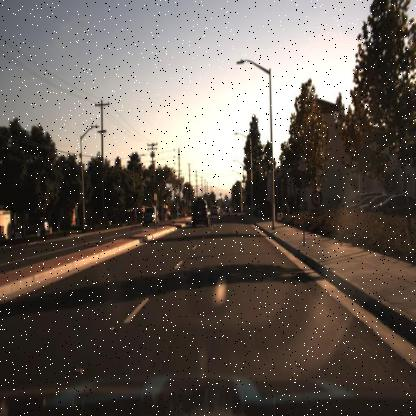car: (373, 193, 414, 217), (356, 192, 390, 218), (188, 195, 210, 232), (188, 198, 212, 229), (140, 204, 161, 227), (209, 202, 222, 221)
